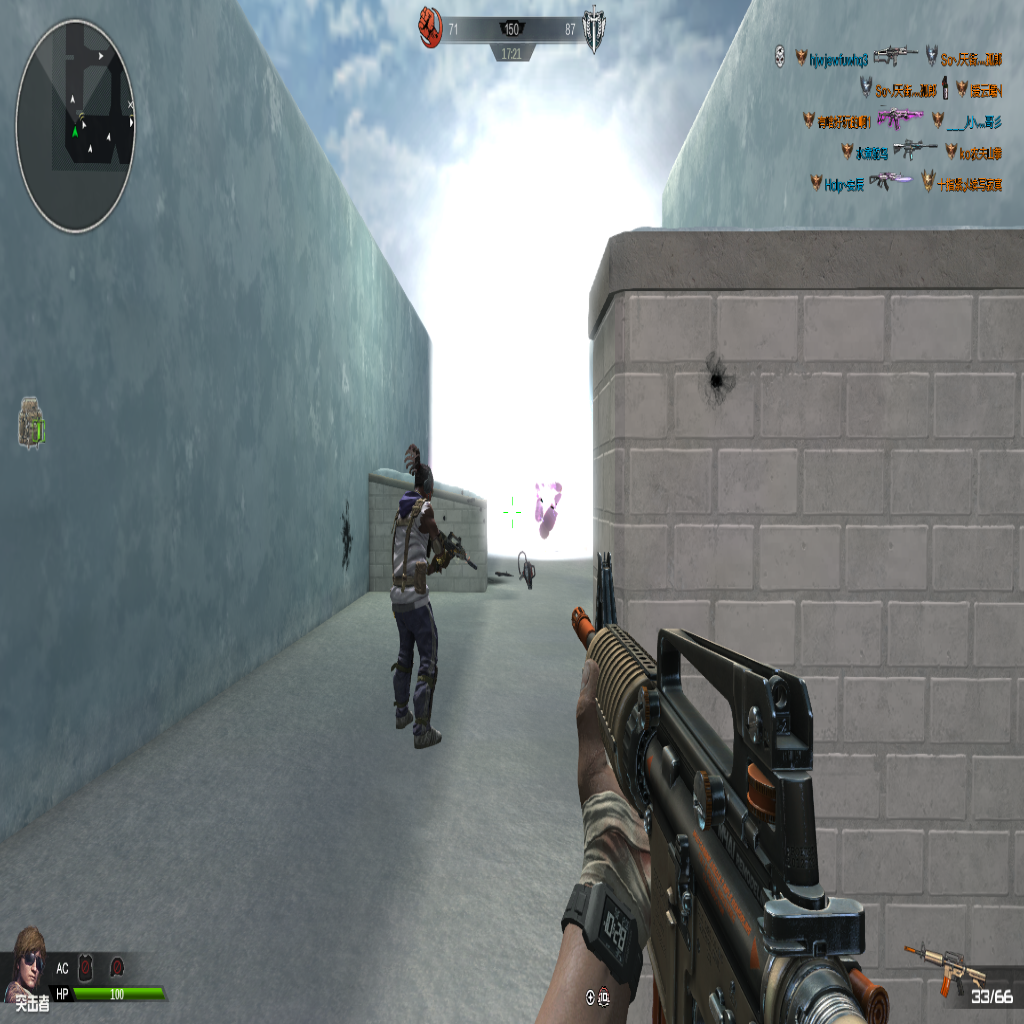tt: (387, 464, 459, 749)
